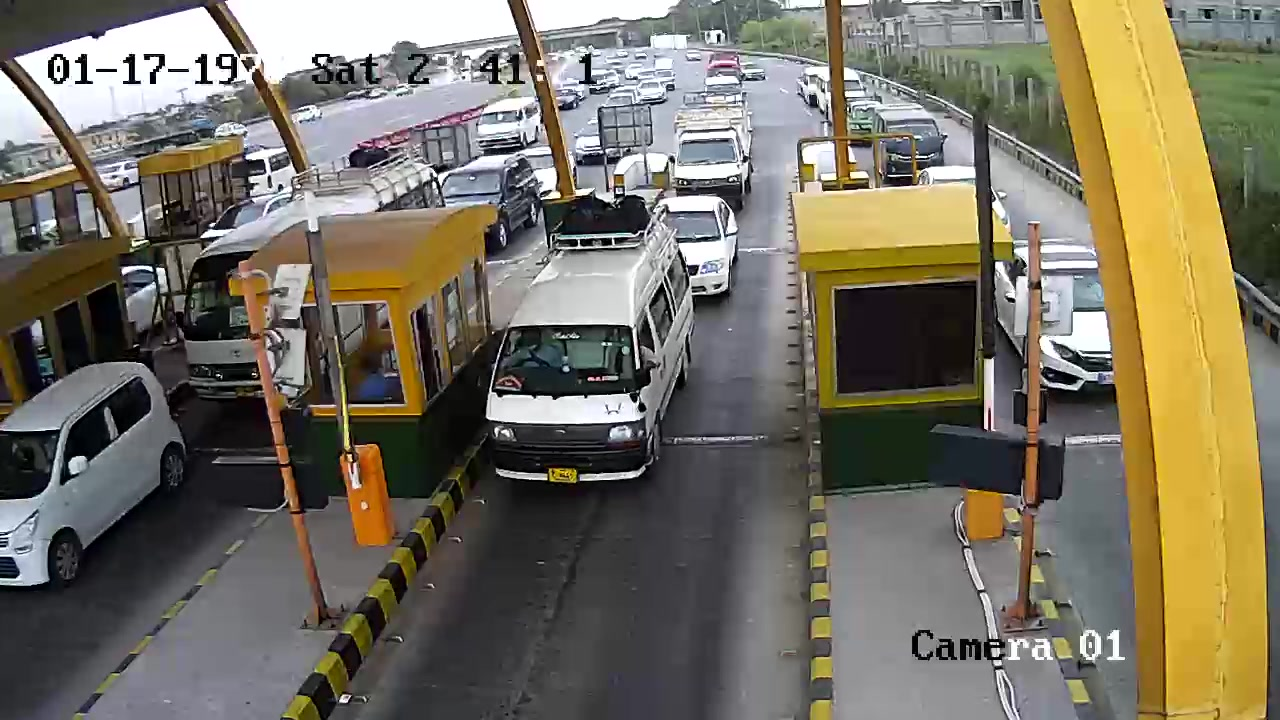F3: (483, 188, 694, 500)
